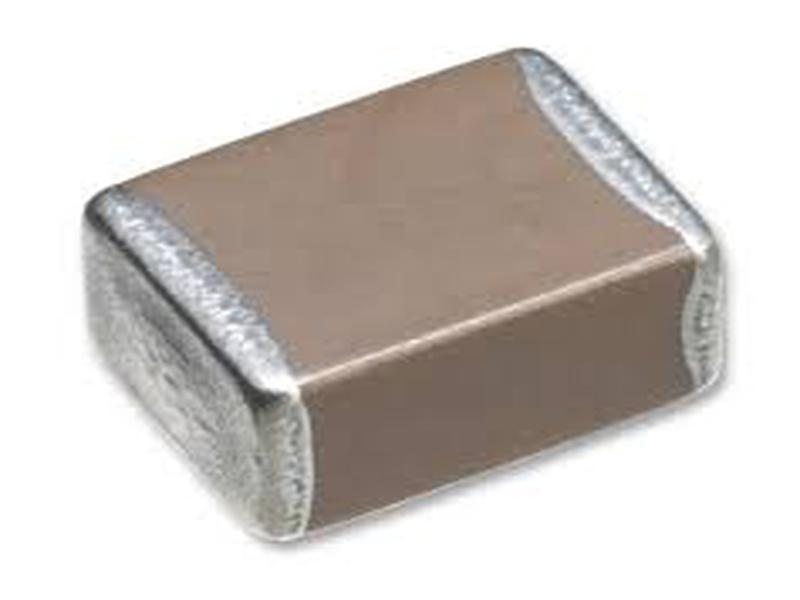SMD capacitor: (81, 45, 729, 524)
